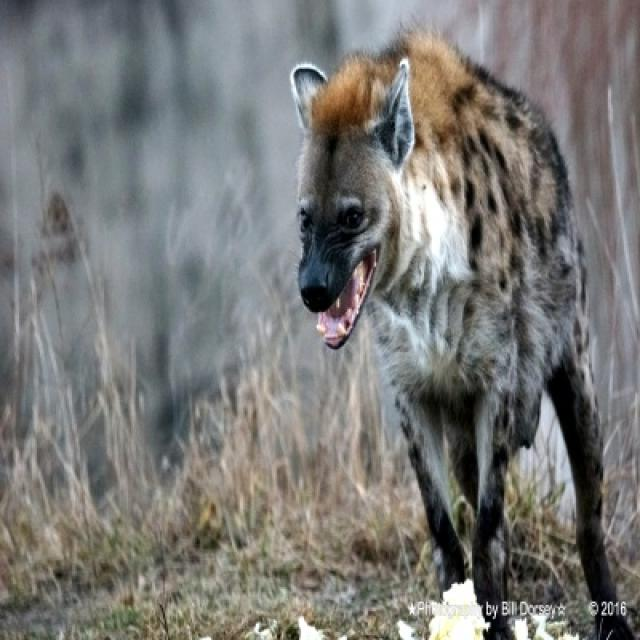hyena: (291, 29, 634, 638)
